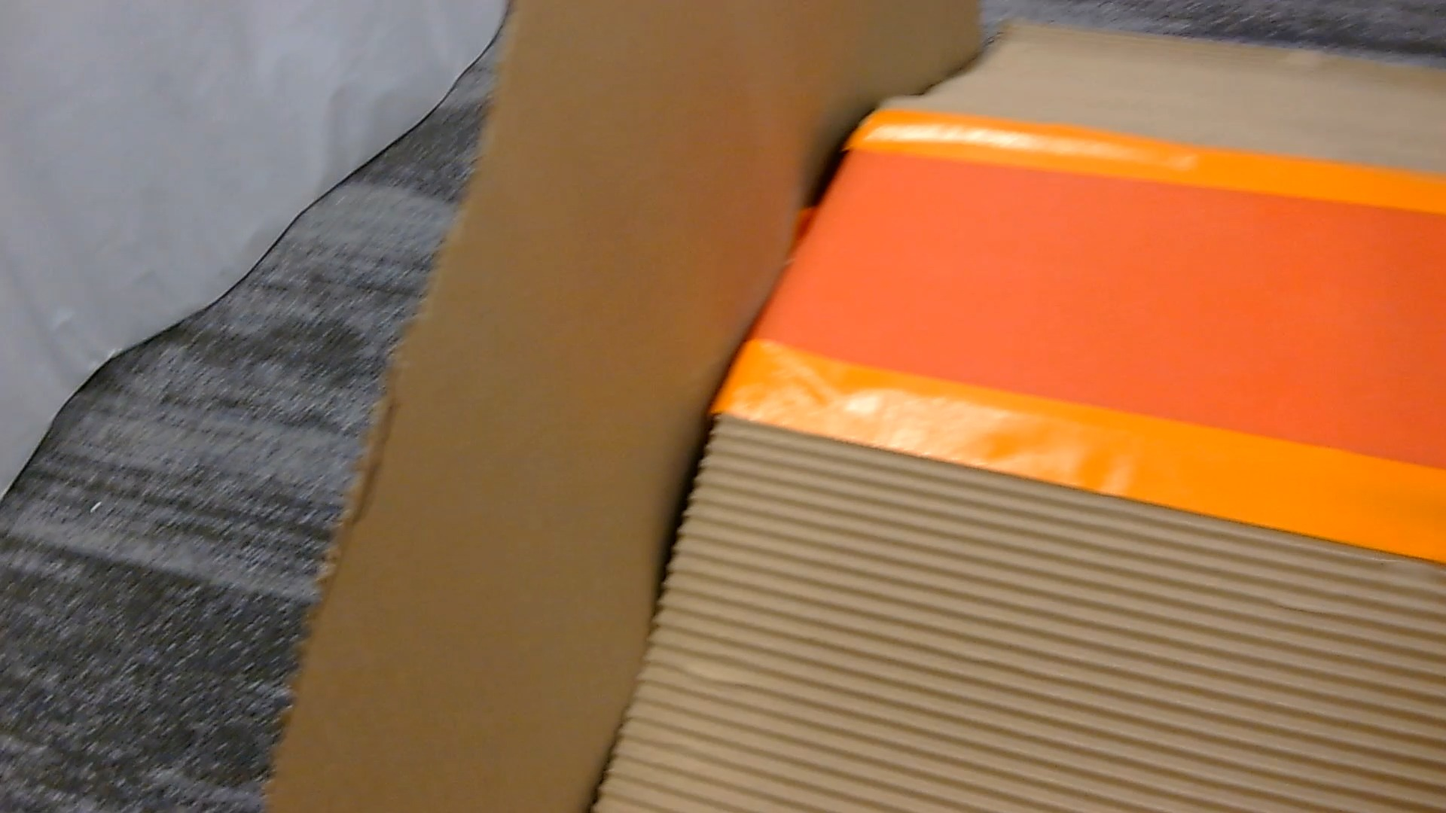Ramp: (267, 0, 1445, 812)
